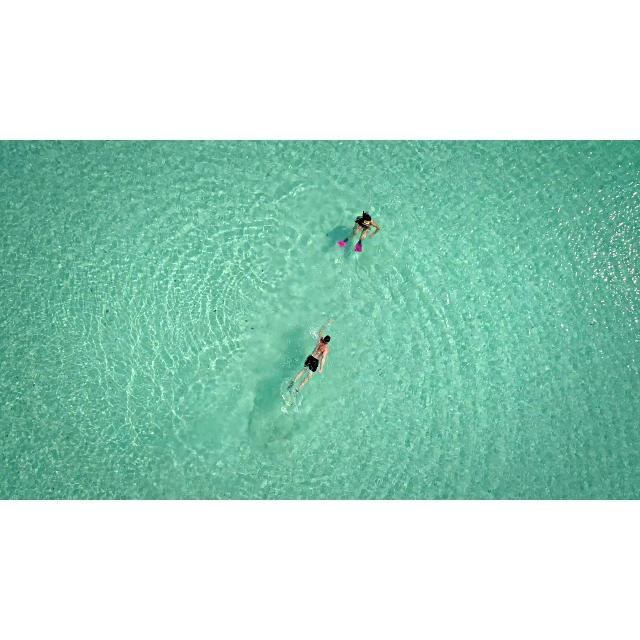human: (291, 317, 337, 391), (334, 210, 378, 254)
